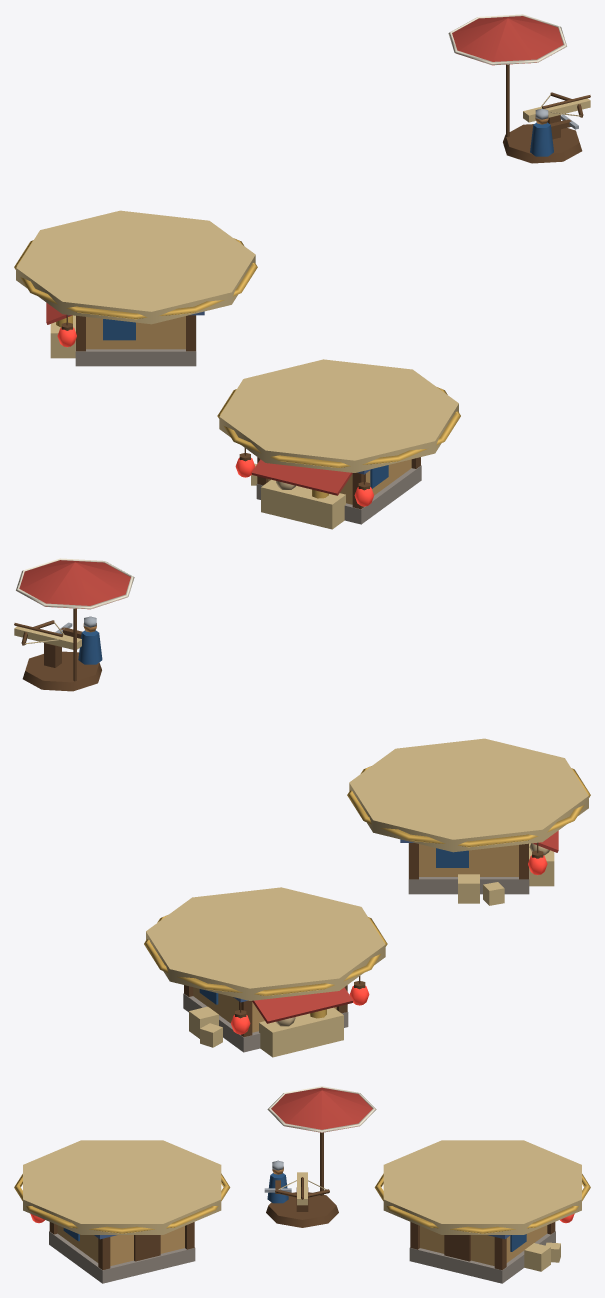
File: base_merchant_weapon_2.glb
3 renders of one model, top to bottom at view 1: azimuth 30°, elevation 25°; view 2: azimuth 150°, elevation 25°; view 3: azimuth 270°, elevation 25°, orthographic. The views are drawn at different scales.
Visible parts, largest first — view 1: tower_slot_2_plate, tower_slot_1_plate, parasol, tower_slot_2_counter, tower_slot_1_house, tower_slot_1_plinth, tower_slot_2_awning, weapon_mount, tower_slot_2_plinth, tower_slot_1_trim, tower_slot_2_trim, parasol_trim (+3 smaller); view 2: tower_slot_1_plate, tower_slot_2_plate, parasol, tower_slot_1_counter, tower_slot_2_house, weapon_mount, tower_slot_1_awning, tower_slot_2_plinth, tower_slot_1_trim, tower_slot_2_trim, tower_slot_1_plinth, tower_slot_1_house (+4 smaller); view 3: tower_slot_1_plate, tower_slot_2_plate, parasol, tower_slot_2_plinth, tower_slot_1_plinth, tower_slot_2_house, tower_slot_1_house, weapon_mount, tower_slot_1_trim, tower_slot_2_trim, parasol_trim, tower_slot_1_crate_0 (+6 smaller).
Part boxes in pixels (<box>): tower_slot_2_plate: <box>219,359,458,472</box>; tower_slot_1_plate: <box>16,210,255,324</box>; parasol: <box>452,16,563,65</box>; tower_slot_2_counter: <box>261,479,345,529</box>; tower_slot_1_house: <box>86,316,185,349</box>; tower_slot_1_plinth: <box>75,315,196,366</box>; tower_slot_2_awning: <box>251,459,352,495</box>; weapon_mount: <box>503,124,582,163</box>; tower_slot_2_plinth: <box>256,465,421,524</box>; tower_slot_1_trim: <box>14,238,257,319</box>; tower_slot_2_trim: <box>217,387,460,467</box>; parasol_trim: <box>448,14,566,65</box>; tower_slot_1_plate: <box>146,887,385,1000</box>; tower_slot_2_plate: <box>349,738,588,852</box>; parasol: <box>19,560,130,609</box>; tower_slot_1_counter: <box>259,1007,343,1057</box>; tower_slot_2_house: <box>419,844,518,876</box>; weapon_mount: <box>22,651,101,691</box>; tower_slot_1_awning: <box>252,987,353,1023</box>; tower_slot_2_plinth: <box>408,843,529,894</box>; tower_slot_1_trim: <box>144,915,387,995</box>; tower_slot_2_trim: <box>347,766,590,847</box>; tower_slot_1_plinth: <box>183,993,348,1052</box>; tower_slot_1_house: <box>193,987,336,1032</box>; tower_slot_1_plate: <box>383,1140,581,1234</box>; tower_slot_2_plate: <box>23,1140,221,1234</box>; parasol: <box>271,1087,372,1132</box>; tower_slot_2_plinth: <box>49,1231,195,1283</box>; tower_slot_1_plinth: <box>409,1231,555,1283</box>; tower_slot_2_house: <box>57,1225,184,1265</box>; tower_slot_1_house: <box>420,1225,547,1265</box>; weapon_mount: <box>266,1192,338,1227</box>; tower_slot_1_trim: <box>374,1173,590,1233</box>; tower_slot_2_trim: <box>14,1173,230,1233</box>; parasol_trim: <box>267,1086,376,1132</box>; tower_slot_1_crate_0: <box>524,1243,550,1271</box>.
Size of the model in its own units: 0.963 by 0.6435 by 1.18.
